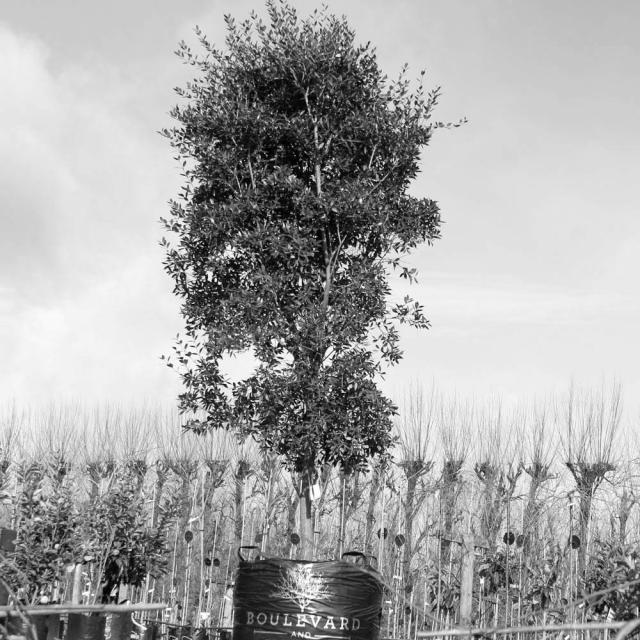Rata and Pohutukaw: (152, 11, 449, 535)
